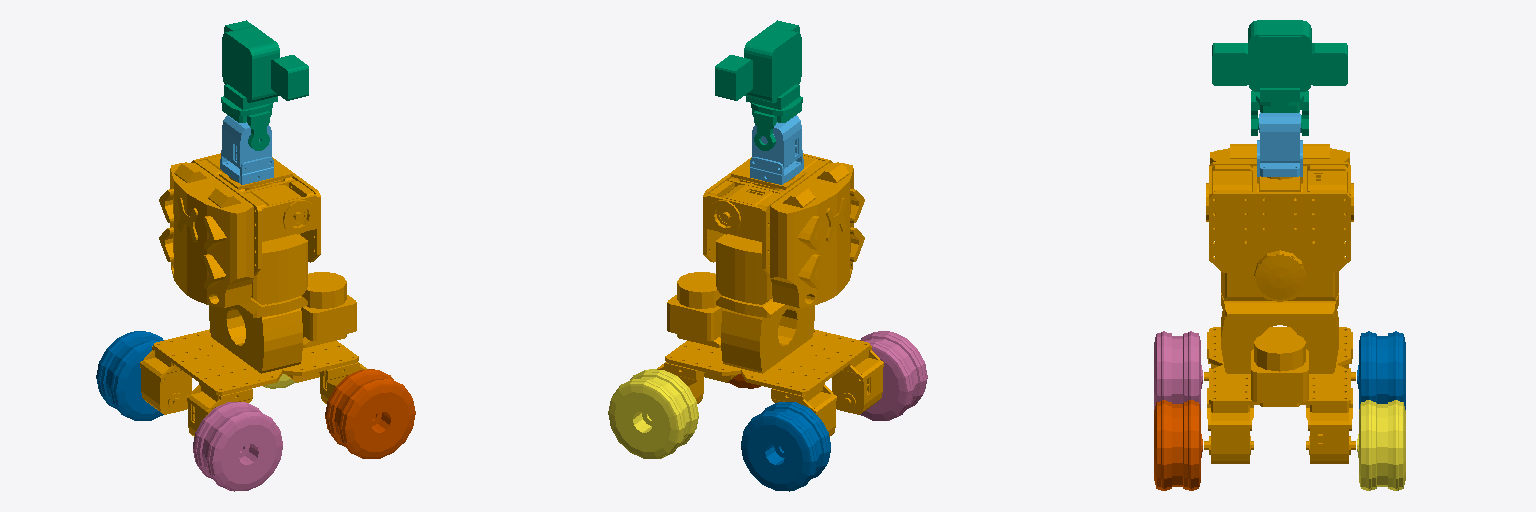
URDF robot description (kx_pr2):
<?xml version='1.0' encoding='utf-8'?>
<robot name="kx_pr2">

  <link name="base_link">
    <visual>
      <origin xyz="0.054 0 0.089" rpy="0 -0 0" />
      <geometry>
        <mesh filename="package://kx_pr2_bringup/urdf/meshes/base_link_mesh.stl" scale="1 1 1" />
      </geometry>
    </visual>
    <collision>
      <origin xyz="0.054 0 0.089" rpy="0 -0 0" />
      <geometry>
        <mesh filename="package://kx_pr2_bringup/urdf/meshes/base_link_mesh.stl" scale="1 1 1" />
      </geometry>
    </collision>
    <inertial>
      <mass value="0.671312" />
      <origin xyz="0.00124 1.38911e-10 0.02081" rpy="0 -0 0" />
      <inertia ixx="0.001849" ixy="-8.30713e-06" ixz="-1.71308e-06" iyy="0.002122" iyz="1.45167e-06" izz="0.003179" />
    </inertial>
  </link>

  <link name="HEAD_LINK0">
    <visual>
      <origin xyz="-0.00725 0 0.1065" rpy="0 -0 0" />
      <geometry>
        <mesh filename="package://kx_pr2_bringup/urdf/meshes/HEAD_LINK0_mesh.stl" scale="1 1 1" />
      </geometry>
    </visual>
    <collision>
      <origin xyz="-0.00725 0 0.1065" rpy="0 -0 0" />
      <geometry>
        <mesh filename="package://kx_pr2_bringup/urdf/meshes/HEAD_LINK0_mesh.stl" scale="1 1 1" />
      </geometry>
    </collision>
    <inertial>
      <mass value="0.037398" />
      <origin xyz="-1.73472e-18 1.22056e-18 0.023093" rpy="0 -0 0" />
      <inertia ixx="8.69139e-05" ixy="-8.96373e-22" ixz="8.61164e-09" iyy="9.09972e-05" iyz="-5.25778e-09" izz="2.5436e-05" />
    </inertial>
  </link>

  <link name="HEAD_LINK1">
    <visual>
      <origin xyz="0 0 0.036" rpy="0 -0 0" />
      <geometry>
        <mesh filename="package://kx_pr2_bringup/urdf/meshes/HEAD_LINK1_mesh.stl" scale="1 1 1" />
      </geometry>
    </visual>
    <collision>
      <origin xyz="0 0 0.036" rpy="0 -0 0" />
      <geometry>
        <mesh filename="package://kx_pr2_bringup/urdf/meshes/HEAD_LINK1_mesh.stl" scale="1 1 1" />
      </geometry>
    </collision>
    <inertial>
      <mass value="0.093045" />
      <origin xyz="-0.001016 3.60351e-18 0.186465" rpy="0 -0 0" />
      <inertia ixx="0.000665" ixy="-1.79922e-07" ixz="-6.65543e-08" iyy="0.000652" iyz="-1.79583e-08" izz="0.000109" />
    </inertial>
  </link>


  <link name="LLEG_LINK0">
    <visual>
      <origin xyz="0.054 0.048 -0.065" rpy="0 -0 0"/>
      <geometry>
        <mesh filename="package://kx_pr2_bringup/urdf/meshes/LLEG_LINK0_mesh.stl" scale="1 1 1" />
      </geometry>
    </visual>
    <collision>
      <origin xyz="0 0 0" rpy="0 1.5707963267948966 1.5707963267948966"/>
      <geometry>
        <cylinder radius="0.04" length="0.02"/>
      </geometry>
    </collision>

    <inertial>
      <mass value="0.095024" />
      <origin xyz="-6.93889e-18 0.016915 0" rpy="0 -0 0"/>
      <inertia ixx="0.000174" ixy="5.92949e-22" ixz="5.05172e-20" iyy="0.000173" iyz="1.9762e-20" izz="0.000262"/>
    </inertial>
  </link>
  <link name="LLEG_LINK1">
    <visual>
      <origin xyz="-0.054 0.048 -0.065" rpy="0 -0 0"/>
      <geometry>
        <mesh filename="package://kx_pr2_bringup/urdf/meshes/LLEG_LINK1_mesh.stl" scale="1 1 1" />
      </geometry>
    </visual>
    <collision>
      <origin xyz="0 0 0" rpy="0 1.5707963267948966 1.5707963267948966"/>
      <geometry>
        <cylinder radius="0.04" length="0.02"/>
      </geometry>
    </collision>

    <inertial>
      <mass value="0.095024" />
      <origin xyz="-6.93889e-18 0.016915 0" rpy="0 -0 0"/>
      <inertia ixx="0.000174" ixy="5.92613e-22" ixz="5.04856e-20" iyy="0.000173" iyz="6.91669e-20" izz="0.000262"/>
    </inertial>
  </link>


  <link name="RLEG_LINK0">
    <visual>
      <origin xyz="0.054 -0.048 -0.065" rpy="0 -0 0"/>
      <geometry>
        <mesh filename="package://kx_pr2_bringup/urdf/meshes/RLEG_LINK0_mesh.stl" scale="1 1 1" />
      </geometry>
    </visual>
    <collision>
      <origin xyz="0 0 0" rpy="0 1.5707963267948966 1.5707963267948966"/>
      <geometry>
        <cylinder radius="0.04" length="0.02"/>
      </geometry>
    </collision>

    <inertial>
      <mass value="0.095024" />
      <origin xyz="-6.93889e-18 0.016915 0" rpy="0 -0 0"/>
      <inertia ixx="0.000174" ixy="5.9261e-22" ixz="5.04911e-20" iyy="0.000173" iyz="-1.9762e-20" izz="0.000262"/>
    </inertial>
  </link>
  <link name="RLEG_LINK1">
    <visual>
      <origin xyz="-0.054 -0.048 -0.065" rpy="0 -0 0"/>
      <geometry>
        <mesh filename="package://kx_pr2_bringup/urdf/meshes/RLEG_LINK1_mesh.stl" scale="1 1 1" />
      </geometry>
    </visual>
    <collision>
      <origin xyz="0 0 0" rpy="0 1.5707963267948966 1.5707963267948966"/>
      <geometry>
        <cylinder radius="0.04" length="0.02"/>
      </geometry>
    </collision>

    <inertial>
      <mass value="0.095024" />
      <origin xyz="-6.93889e-18 0.016915 0" rpy="0 -0 0"/>
      <inertia ixx="0.000174" ixy="5.93143e-22" ixz="5.05395e-20" iyy="0.000173" iyz="-3.95239e-20" izz="0.000262"/>
    </inertial>
  </link>

  <joint name="LLEG_JOINT0" type="continuous">
    <parent link="base_link"/>
    <child  link="LLEG_LINK0"/>
    <origin xyz="0.054 0.048 -0.065" rpy="0 -0 0 "/>
    <axis   xyz="0 1 0"/>
    <limit lower="-1745.33" upper="1745.33" effort="0.656248" velocity="7.47998" />
    <dynamics damping="0.2" friction="0" />
  </joint>
  <joint name="LLEG_JOINT1" type="continuous">
    <parent link="base_link"/>
    <child  link="LLEG_LINK1"/>
    <origin xyz="-0.054 0.048 -0.065" rpy="0 -0 0 "/>
    <axis   xyz="0 1 0"/>
    <limit lower="-1745.33" upper="1745.33" effort="0.656248" velocity="7.47998" />
    <dynamics damping="0.2" friction="0" />
  </joint>
  <joint name="RLEG_JOINT0" type="continuous">
    <parent link="base_link"/>
    <child  link="RLEG_LINK0"/>
    <origin xyz="0.054 -0.048 -0.065" rpy="0 -0 0 "/>
    <axis   xyz="0 1 0"/>
    <limit lower="-1745.33" upper="1745.33" effort="0.656248" velocity="7.47998" />
    <dynamics damping="0.2" friction="0" />
  </joint>
  <joint name="RLEG_JOINT1" type="continuous">
    <parent link="base_link"/>
    <child  link="RLEG_LINK1"/>
    <origin xyz="-0.054 -0.048 -0.065" rpy="0 -0 0 "/>
    <axis   xyz="0 1 0"/>
    <limit lower="-1745.33" upper="1745.33" effort="0.656248" velocity="7.47998" />
    <dynamics damping="0.2" friction="0" />
  </joint>
  <joint name="HEAD_JOINT0" type="revolute">
    <parent link="base_link" />
    <child link="HEAD_LINK0" />
    <origin xyz="-0.00725 0 0.1065" rpy="0 -0 0 " />
    <axis xyz="0 0 -1" />
    <limit lower="-2.96706" upper="2.96706" effort="0.656248" velocity="7.47998" />
    <dynamics damping="0.2" friction="0" />
  </joint>
  <joint name="HEAD_JOINT1" type="revolute">
    <parent link="HEAD_LINK0" />
    <child link="HEAD_LINK1" />
    <origin xyz="0 0 0.036" rpy="0 -0 0 " />
    <axis xyz="0 -1 0" />
    <limit lower="-2.0944" upper="2.0944" effort="0.656248" velocity="7.47998" />
    <dynamics damping="0.2" friction="0" />
  </joint>

  <gazebo reference="base_link">
    <mu1>0.5</mu1>
    <mu2>0.5</mu2>
    <kp>100000</kp>
    <kd>1</kd>
    <gravity>true</gravity>
    <sensor name="imu_sensor" type="imu">
      <always_on>true</always_on>
      <update_rate>100</update_rate>
      <visualize>true</visualize>
      <topic>__default_topic__</topic>
      <plugin filename="libgazebo_ros_imu_sensor.so" name="imu_plugin">
        <robotNamespace>/imu_publisher</robotNamespace>
        <topicName>imu</topicName>
        <bodyName>base_link</bodyName>
        <updateRateHZ>100.0</updateRateHZ>
        <gaussianNoise>0.0</gaussianNoise>
        <xyzOffset>0 0 0</xyzOffset>
        <rpyOffset>0 0 0</rpyOffset>
        <frameName>base_link</frameName>
      </plugin>
      <pose>0 0 0 0 0 0</pose>
    </sensor>
  </gazebo>

  <gazebo reference="HEAD_LINK0">
    <mu1>0.4</mu1>
    <mu2>0.4</mu2>
    <kp>100000</kp>
    <kd>1</kd>
  </gazebo>
  <gazebo reference="HEAD_LINK1">
    <mu1>0.5</mu1>
    <mu2>0.5</mu2>
    <kp>100000</kp>
    <kd>1</kd>
  </gazebo>
  <gazebo reference="LLEG_LINK0">
    <mu1>0.5</mu1>
    <mu2>0.5</mu2>
    <kp>100000</kp>
    <kd>1</kd>
  </gazebo>
  <gazebo reference="LLEG_LINK1">
    <mu1>0.5</mu1>
    <mu2>0.5</mu2>
    <kp>100000</kp>
    <kd>1</kd>
  </gazebo>
  <gazebo reference="RLEG_LINK0">
    <mu1>0.5</mu1>
    <mu2>0.5</mu2>
    <kp>100000</kp>
    <kd>1</kd>
  </gazebo>
  <gazebo reference="RLEG_LINK1">
    <mu1>0.5</mu1>
    <mu2>0.5</mu2>
    <kp>100000</kp>
    <kd>1</kd>
  </gazebo>

  <joint name="camera_joint" type="fixed">
    <origin rpy="0 0 0" xyz="-0.031 0.0125 -0.016"/>
    <parent link="HEAD_LINK1"/>
    <child link="camera_link"/>
  </joint>

  <link name="camera_link">
    <visual>
      <origin rpy="0 0 1.5707963267948966" xyz="0 0 0"/>
      <!-- <geometry> -->
      <!--   <mesh filename="package://turtlebot_description/meshes/sensors/kinect.stl"/> -->
      <!-- </geometry> -->
    </visual>
    <collision>
      <origin rpy="0 0 0" xyz="0.0 0.0 0.0"/>
      <!-- <geometry> -->
      <!--   <box size="0.07271 0.27794 0.073"/> -->
      <!-- </geometry> -->
    </collision>
    <inertial>
      <mass value="0.564"/>
      <origin xyz="0 0 0"/>
      <inertia ixx="0.003881243" ixy="0.0" ixz="0.0" iyy="0.000498940" iyz="0.0" izz="0.003879257"/>
    </inertial>
  </link>
  <!-- The fixed joints & links below are usually published by static_transformers launched by the OpenNi launch
       files. However, for Gazebo simulation we need them, so we add them here.
       (Hence, don't publish them additionally!) -->
  <joint name="camera_depth_joint" type="fixed">
    <origin rpy="0 0 0" xyz="0 0.025 0"/>
    <parent link="camera_link"/>
    <child link="camera_depth_frame"/>
  </joint>
  <link name="camera_depth_frame"/>
  <joint name="camera_depth_optical_joint" type="fixed">
    <origin rpy="-1.5707963267948966 0 -1.5707963267948966" xyz="0 0 0"/>
    <parent link="camera_depth_frame"/>
    <child link="camera_depth_optical_frame"/>
  </joint>
  <link name="camera_depth_optical_frame"/>
  <gazebo reference="camera_link">
    <sensor name="camera" type="depth">
      <always_on>true</always_on>
      <update_rate>20.0</update_rate>
      <camera>
        <horizontal_fov>1.0471975511965976</horizontal_fov>
        <image>
          <format>B8G8R8</format>
          <width>640</width>
          <height>480</height>
        </image>
        <clip>
          <near>0.05</near>
          <far>8.0</far>
        </clip>
      </camera>
      <plugin filename="libgazebo_ros_openni_kinect.so" name="kinect_camera_controller">
        <cameraName>camera</cameraName>
        <alwaysOn>true</alwaysOn>
        <updateRate>10</updateRate>
        <imageTopicName>rgb/image_raw</imageTopicName>
        <depthImageTopicName>depth/image_raw</depthImageTopicName>
        <pointCloudTopicName>depth/points</pointCloudTopicName>
        <cameraInfoTopicName>rgb/camera_info</cameraInfoTopicName>
        <depthImageCameraInfoTopicName>depth/camera_info</depthImageCameraInfoTopicName>
        <frameName>camera_depth_optical_frame</frameName>
        <baseline>0.1</baseline>
        <distortion_k1>0.0</distortion_k1>
        <distortion_k2>0.0</distortion_k2>
        <distortion_k3>0.0</distortion_k3>
        <distortion_t1>0.0</distortion_t1>
        <distortion_t2>0.0</distortion_t2>
        <pointCloudCutoff>0.4</pointCloudCutoff>
      </plugin>
    </sensor>
  </gazebo>

  <gazebo>
    <plugin filename="libgazebo_ros_control.so" name="gazebo_ros_control"/>
    <!-- <plugin filename="libgazebo_ros_p3d.so" name="ground_truth"> -->
    <!--   <frameName>map</frameName> -->
    <!--   <bodyName>base_footprint</bodyName> -->
    <!--   <topicName>base_pose_ground_truth</topicName> -->
    <!--   <updateRate>30.0</updateRate> -->
    <!-- </plugin> -->
  </gazebo>

  <transmission name="HEAD_JOINT0_trans">
    <type>transmission_interface/SimpleTransmission</type>
    <joint name="HEAD_JOINT0">
      <hardwareInterface>hardware_interface/PositionJointInterface</hardwareInterface>
    </joint>
    <actuator name="HEAD_JOINT0_motor">
      <mechanicalReduction>1</mechanicalReduction>
      <hardwareInterface>hardware_interface/PositionJointInterface</hardwareInterface>
    </actuator>
  </transmission>

  <transmission name="HEAD_JOINT1_trans">
    <type>transmission_interface/SimpleTransmission</type>
    <joint name="HEAD_JOINT1">
      <hardwareInterface>hardware_interface/PositionJointInterface</hardwareInterface>
    </joint>
    <actuator name="HEAD_JOINT1_motor">
      <mechanicalReduction>1</mechanicalReduction>
      <hardwareInterface>hardware_interface/PositionJointInterface</hardwareInterface>
    </actuator>
  </transmission>

  <transmission name="RLEG_JOINT0_trans">
    <type>transmission_interface/SimpleTransmission</type>
    <joint name="RLEG_JOINT0">
      <hardwareInterface>hardware_interface/VelocityJointInterface</hardwareInterface>
    </joint>
    <actuator name="RLEG_JOINT0_motor">
      <mechanicalReduction>1</mechanicalReduction>
      <hardwareInterface>hardware_interface/VelocityJointInterface</hardwareInterface>
    </actuator>
  </transmission>

  <transmission name="RLEG_JOINT1_trans">
    <type>transmission_interface/SimpleTransmission</type>
    <joint name="RLEG_JOINT1">
      <hardwareInterface>hardware_interface/VelocityJointInterface</hardwareInterface>
    </joint>
    <actuator name="RLEG_JOINT1_motor">
      <mechanicalReduction>1</mechanicalReduction>
      <hardwareInterface>hardware_interface/VelocityJointInterface</hardwareInterface>
    </actuator>
  </transmission>

  <transmission name="LLEG_JOINT0_trans">
    <type>transmission_interface/SimpleTransmission</type>
    <joint name="LLEG_JOINT0">
      <hardwareInterface>hardware_interface/VelocityJointInterface</hardwareInterface>
    </joint
    ><actuator name="LLEG_JOINT0_motor">
    <mechanicalReduction>1</mechanicalReduction>
    <hardwareInterface>hardware_interface/VelocityJointInterface</hardwareInterface>
  </actuator>
  </transmission>

  <transmission name="LLEG_JOINT1_trans">
    <type>transmission_interface/SimpleTransmission</type>
    <joint name="LLEG_JOINT1">
      <hardwareInterface>hardware_interface/VelocityJointInterface</hardwareInterface>
    </joint>
    <actuator name="LLEG_JOINT1_motor">
      <mechanicalReduction>1</mechanicalReduction>
      <hardwareInterface>hardware_interface/VelocityJointInterface</hardwareInterface>
    </actuator>
  </transmission>

</robot>

--- What the picture shows (computed from the rendered views, not written in the file) ---
Views: 3 orthographic renders of the robot side by side, from view 1: azimuth 30°, elevation 25°; view 2: azimuth 150°, elevation 25°; view 3: azimuth 270°, elevation 25°.
Robot: kx_pr2 — 10 links, 9 joints (2 revolute, 4 continuous, 3 fixed); root link base_link; default pose: every joint at zero.
Visible links, largest first — view 1: base_link, HEAD_LINK1, RLEG_LINK0, RLEG_LINK1, LLEG_LINK1, HEAD_LINK0; view 2: base_link, HEAD_LINK1, LLEG_LINK0, LLEG_LINK1, RLEG_LINK1, HEAD_LINK0; view 3: base_link, HEAD_LINK1, LLEG_LINK0, RLEG_LINK0, LLEG_LINK1, RLEG_LINK1, HEAD_LINK0.
Boxes of the visible links, box(x1,y1,x2,y2) form: base_link: box(140, 153, 366, 436); HEAD_LINK1: box(221, 20, 308, 150); RLEG_LINK0: box(325, 369, 415, 458); RLEG_LINK1: box(193, 402, 282, 491); LLEG_LINK1: box(96, 331, 163, 420); HEAD_LINK0: box(220, 115, 273, 184); base_link: box(657, 153, 883, 436); HEAD_LINK1: box(715, 20, 802, 150); LLEG_LINK0: box(608, 369, 698, 458); LLEG_LINK1: box(741, 402, 830, 491); RLEG_LINK1: box(860, 331, 927, 420); HEAD_LINK0: box(750, 115, 803, 184); base_link: box(1204, 144, 1355, 463); HEAD_LINK1: box(1212, 20, 1347, 135); LLEG_LINK0: box(1357, 400, 1405, 490); RLEG_LINK0: box(1154, 400, 1202, 490); LLEG_LINK1: box(1357, 331, 1405, 409); RLEG_LINK1: box(1154, 331, 1202, 409); HEAD_LINK0: box(1257, 112, 1302, 176).
Bounding box of the posed robot: 0.169 × 0.167 × 0.31 m (x, y, z).
7 mesh visuals loaded from 7 distinct referenced files (7 binary STL).